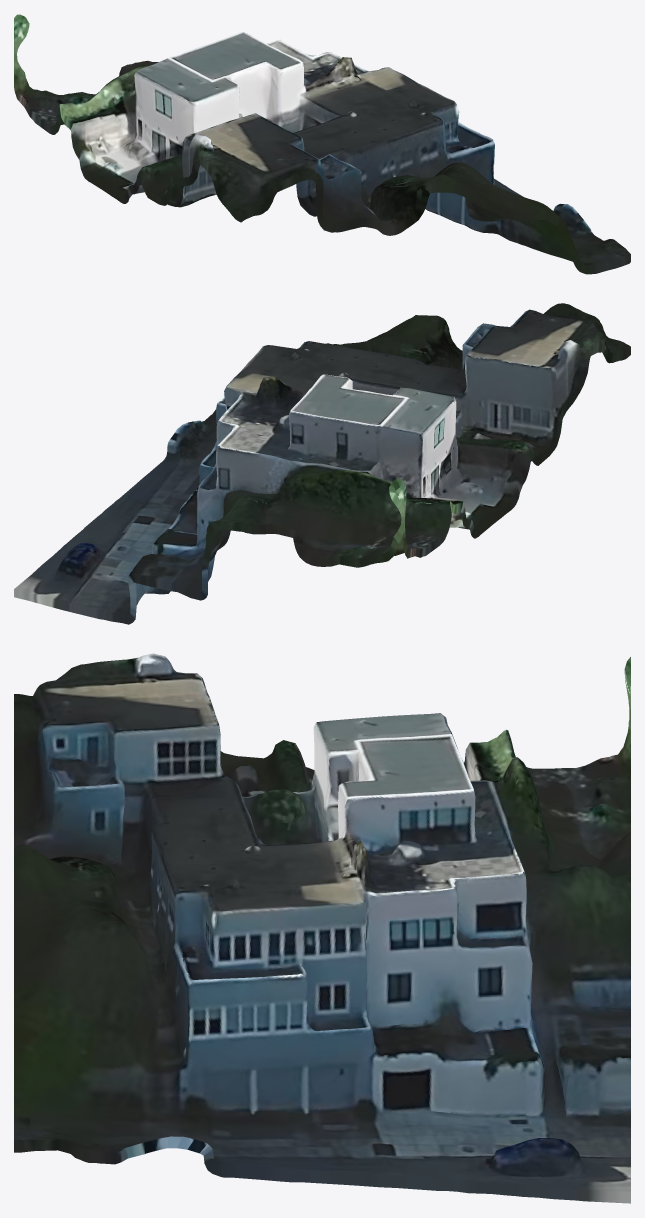
The model's file is z20-167751-405191-h0-yup-uvflip-v3-world.glb.
3 renders of one model, top to bottom at view 1: azimuth 30°, elevation 25°; view 2: azimuth 150°, elevation 25°; view 3: azimuth 270°, elevation 25°, orthographic. The views are drawn at different scales.
Bounding box in the file's own units: 30.16 × 16.2 × 30.32.
Materials: 1 (1 with a texture image).
